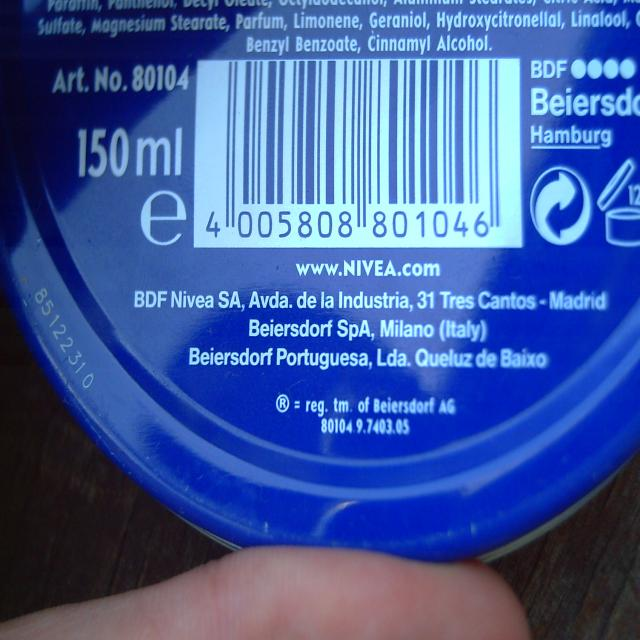barcode: (199, 59, 503, 240)
